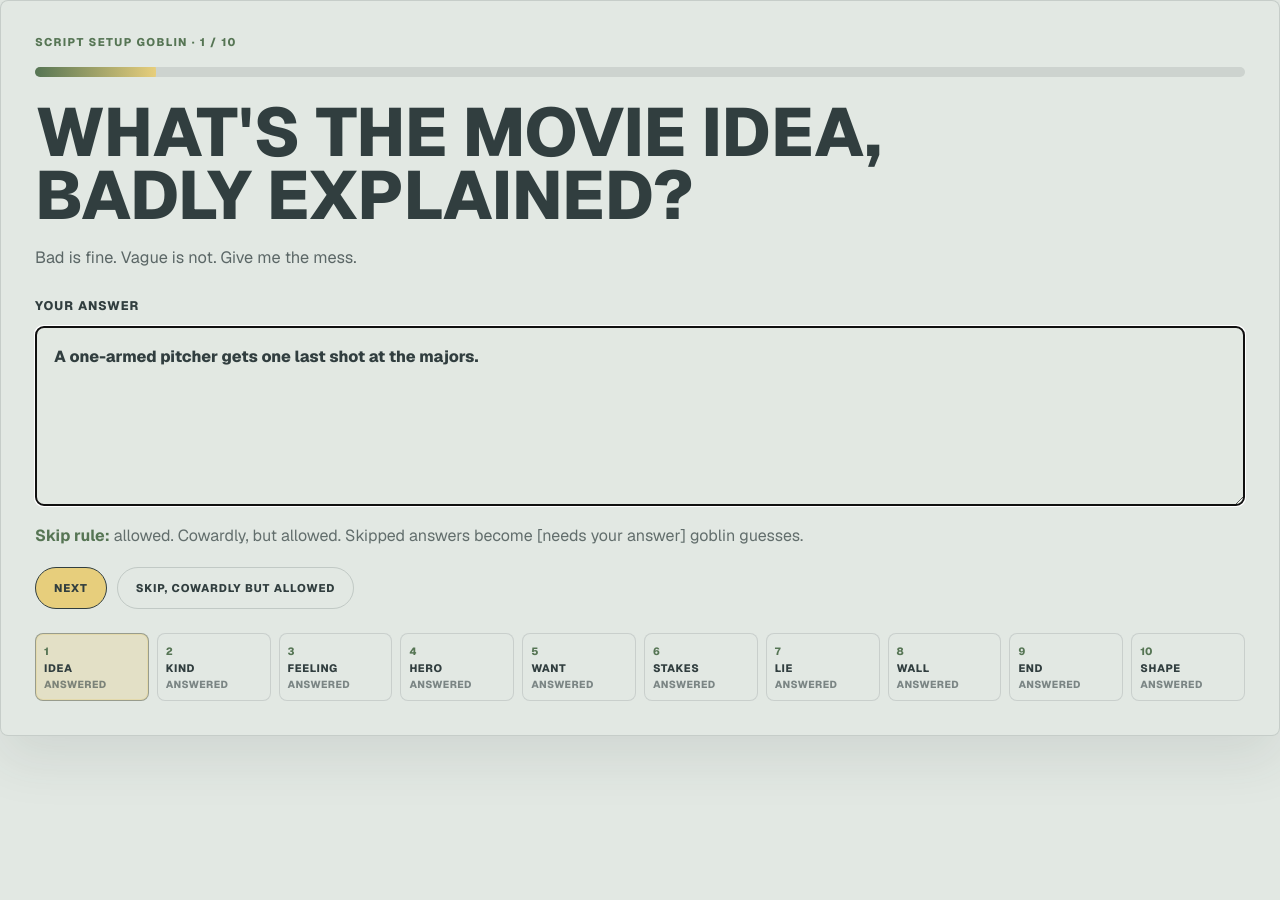
GuidedSetupClient › prefills saved setup answers when the writer runs guided setup again
The width and height of the screenshot is (1280, 900).
Expected: the heading "What's the movie idea, badly explained?" is shown, left=35, top=101, right=915, bottom=228
Expected: the text box labelled "Your answer" holds "A one-armed pitcher gets one last shot at the majors.", left=35, top=326, right=1245, bottom=506
Click the button "Next": (71, 588) left=35, top=567, right=107, bottom=609
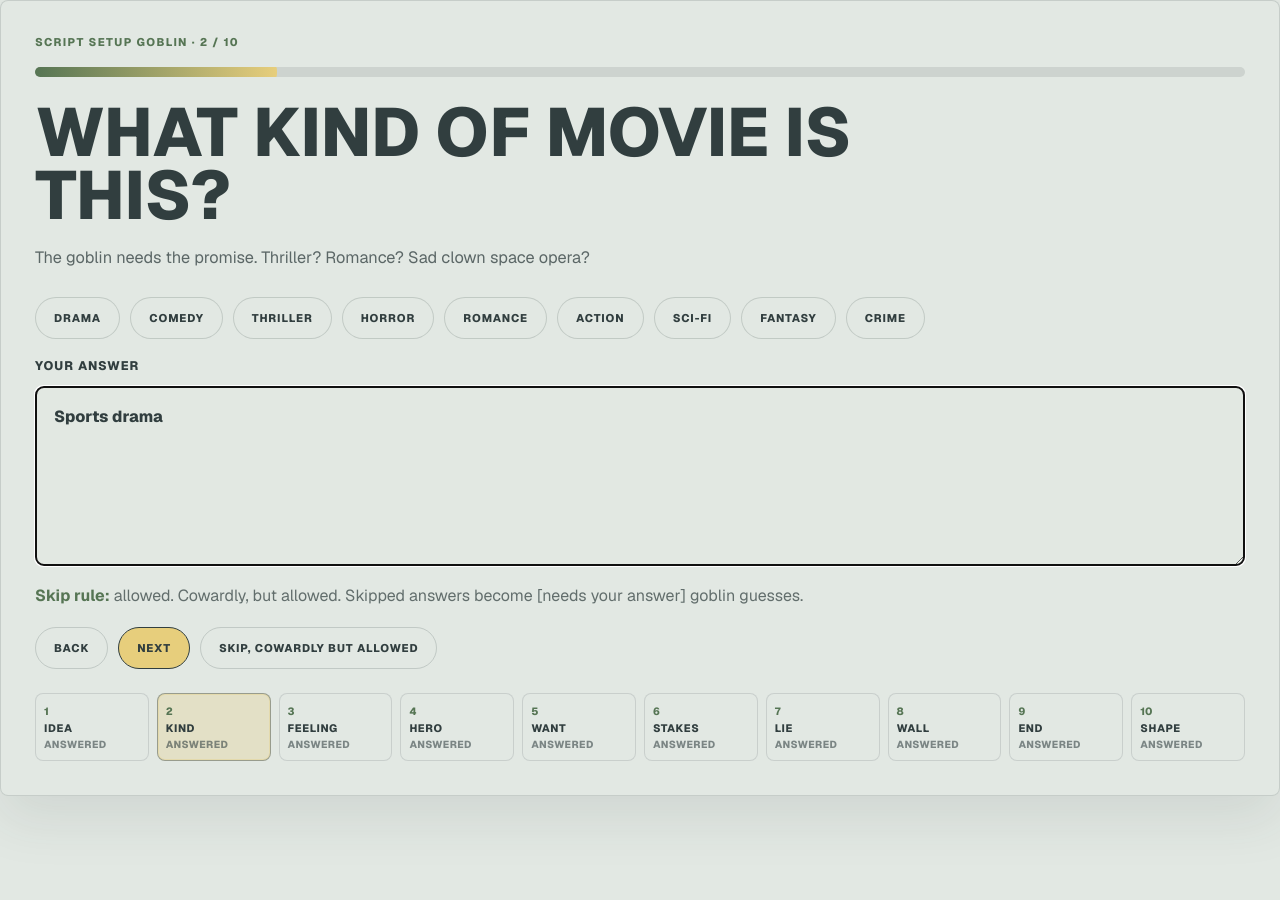
Now the heading "What kind of movie is this?" is shown, box left=35, top=101, right=915, bottom=228
Now the text box labelled "Your answer" holds "Sports drama", box left=35, top=386, right=1245, bottom=566
